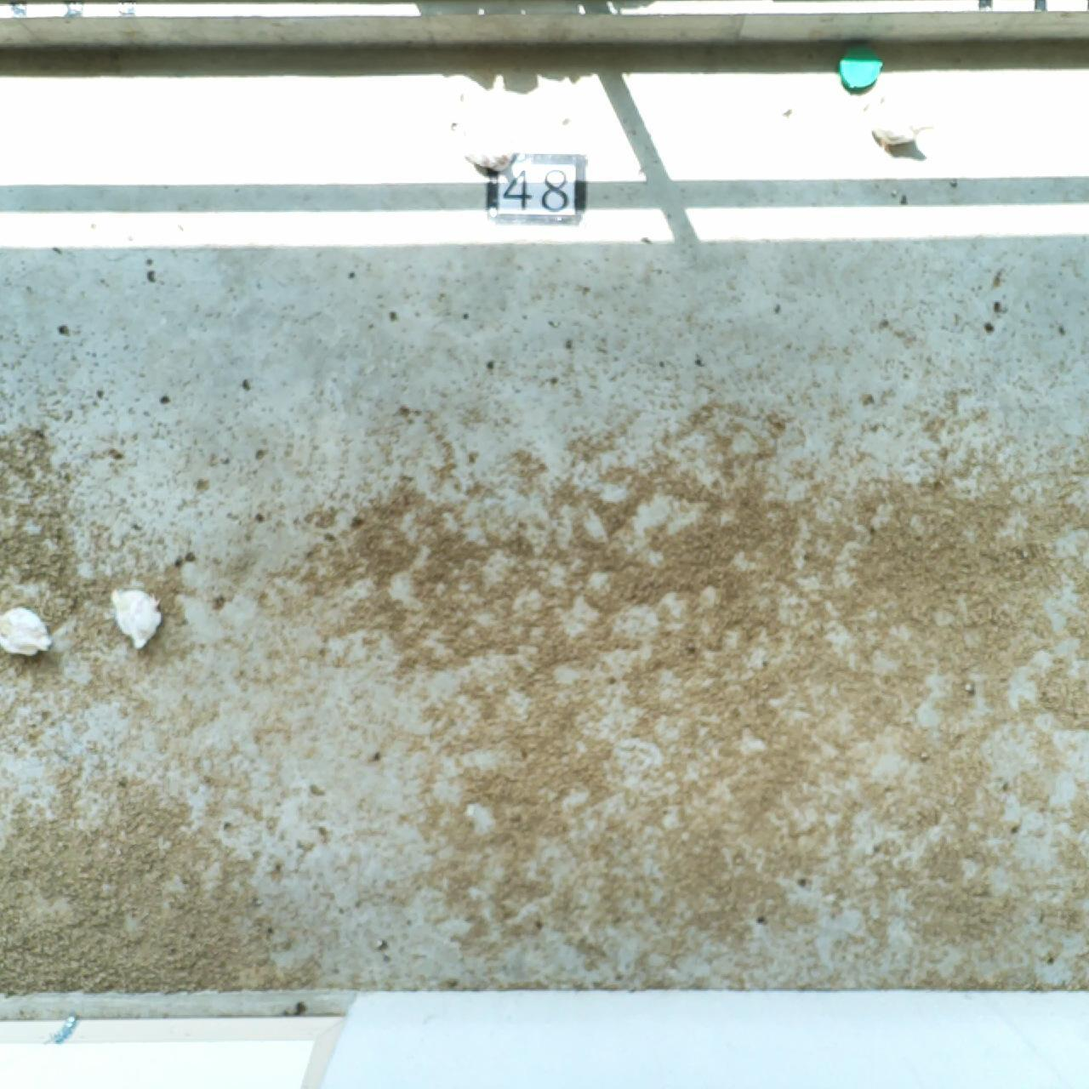chicken: (862, 99, 940, 161), (106, 579, 170, 654), (0, 603, 57, 665)
